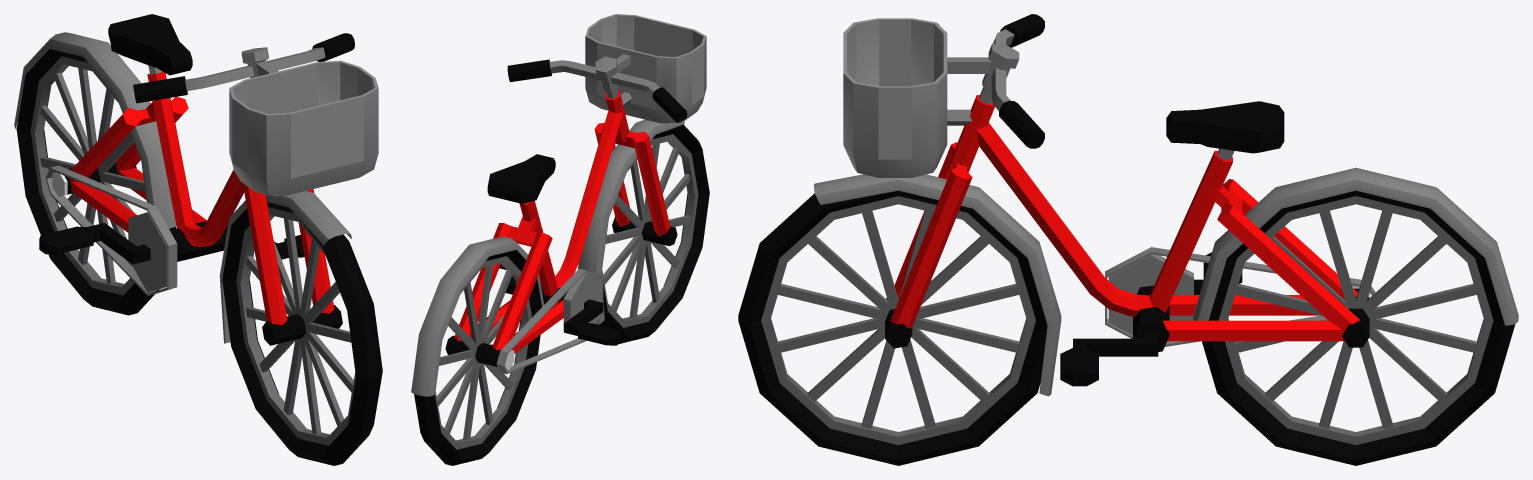
3 views of the same model, side by side, from view 1: azimuth 30°, elevation 25°; view 2: azimuth 150°, elevation 25°; view 3: azimuth 270°, elevation 25° (orthographic). The views are drawn at different scales.
Visible parts, largest first — view 1: basket, Tube_2, Cylinder_1_5, Tube_1, Tube, Cylinder_1_4, pedals, saddle, chain, Cylinder_4, Cylinder_1, Cylinder_5_2 (+6 smaller); view 2: Cylinder_1_5, basket, Tube_1, Tube_2, Tube, Cylinder_1, Cylinder_3, Cylinder_1_4, saddle, chain, pedals, grips (+8 smaller); view 3: Tube_2, Cylinder_1_5, basket, Tube, Tube_1, Cylinder_1, Cylinder_3, Cylinder_1_2, saddle, Cylinder_1_4, pedals, Cylinder_4 (+7 smaller).
Boxes of the visible parts, bbox=[...] form: basket: bbox=[229, 60, 378, 195]; Tube_2: bbox=[16, 49, 382, 465]; Cylinder_1_5: bbox=[40, 68, 353, 434]; Tube_1: bbox=[14, 32, 351, 343]; Tube: bbox=[30, 56, 355, 445]; Cylinder_1_4: bbox=[242, 183, 334, 324]; pedals: bbox=[39, 221, 304, 264]; saddle: bbox=[108, 14, 192, 75]; chain: bbox=[45, 165, 177, 295]; Cylinder_4: bbox=[147, 71, 194, 229]; Cylinder_1: bbox=[69, 96, 188, 182]; Cylinder_5_2: bbox=[128, 212, 167, 292]; Cylinder_1_5: bbox=[436, 143, 690, 440]; basket: bbox=[585, 14, 706, 123]; Tube_1: bbox=[411, 119, 684, 396]; Tube_2: bbox=[414, 124, 709, 465]; Tube: bbox=[435, 134, 698, 449]; Cylinder_1: bbox=[454, 216, 552, 349]; Cylinder_3: bbox=[555, 111, 623, 288]; Cylinder_1_4: bbox=[594, 122, 670, 236]; saddle: bbox=[487, 154, 555, 203]; chain: bbox=[496, 268, 603, 374]; pedals: bbox=[499, 264, 621, 345]; grips: bbox=[507, 59, 687, 122]; Tube_2: bbox=[738, 190, 1515, 465]; Cylinder_1_5: bbox=[777, 210, 1476, 428]; basket: bbox=[843, 18, 947, 177]; Tube: bbox=[761, 196, 1493, 445]; Tube_1: bbox=[814, 167, 1518, 396]; Cylinder_1: bbox=[1210, 179, 1359, 331]; Cylinder_3: bbox=[976, 122, 1152, 316]; Cylinder_1_2: bbox=[1163, 295, 1344, 341]; saddle: bbox=[1166, 101, 1284, 153]; Cylinder_1_4: bbox=[890, 142, 972, 328]; pedals: bbox=[1060, 252, 1242, 386]; Cylinder_4: bbox=[1149, 150, 1232, 312].
Size of the model in its own units: 256 by 401 by 681.
